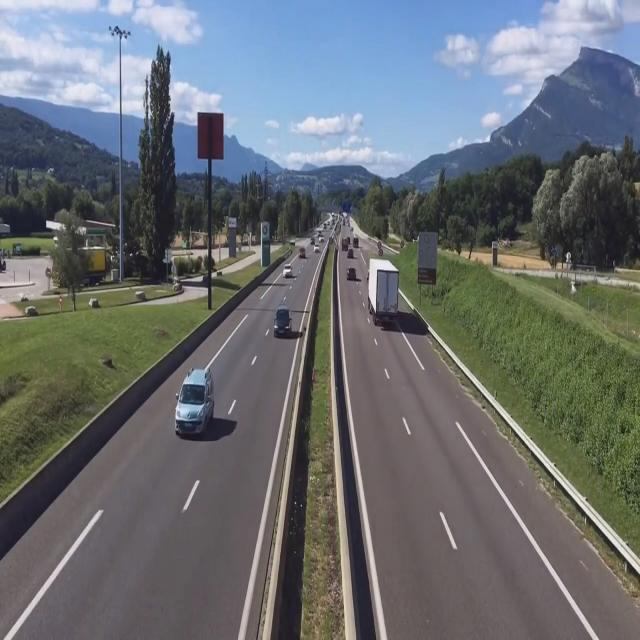car: (176, 370, 217, 442), (274, 304, 292, 338), (283, 265, 294, 281)
truck: (366, 258, 399, 332)
